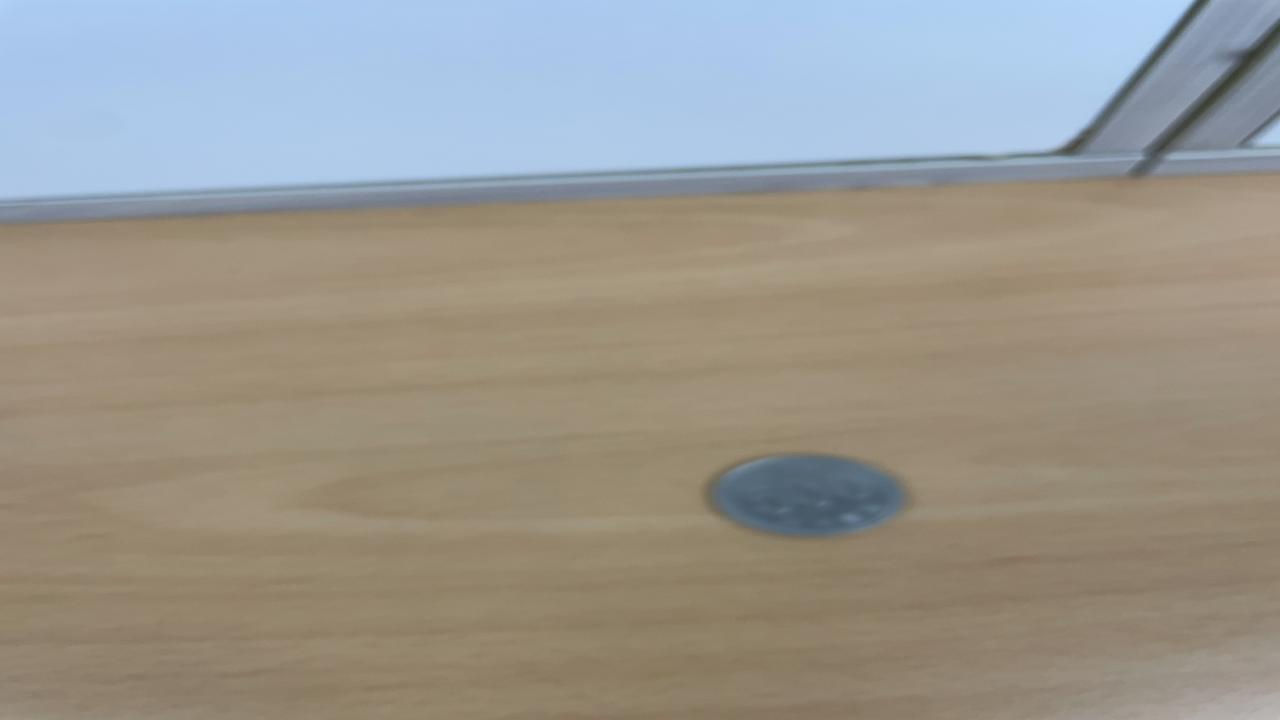coin: (706, 453, 909, 538)
